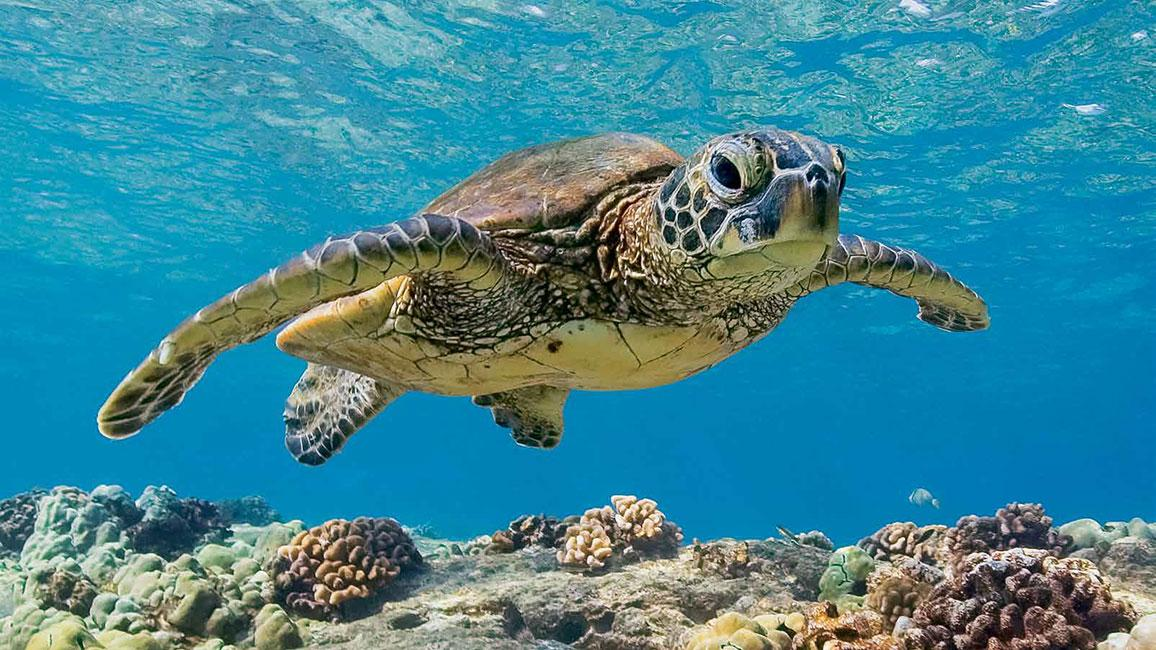turtle: (645, 116, 856, 302)
